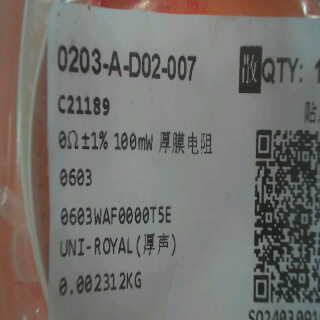0R: (53, 128, 115, 188)
